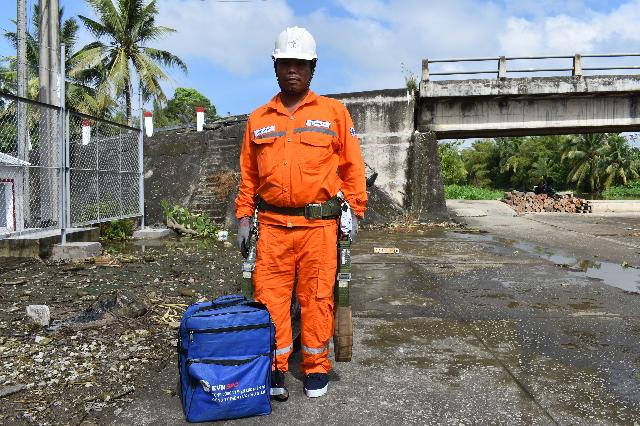gloves: (226, 218, 259, 260), (349, 212, 360, 244)
harness: (253, 187, 350, 226)
helmet: (258, 19, 325, 61)
shoes: (295, 363, 334, 400), (263, 366, 293, 396)
